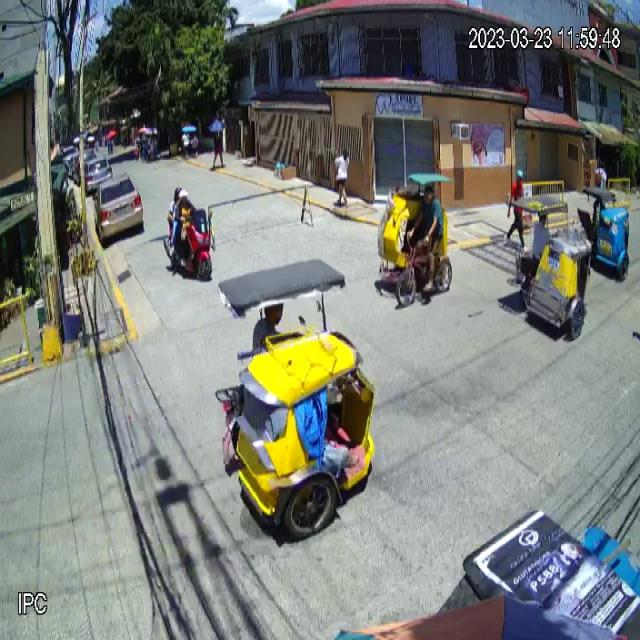Tricycle: (215, 257, 376, 541), (506, 195, 593, 341)
